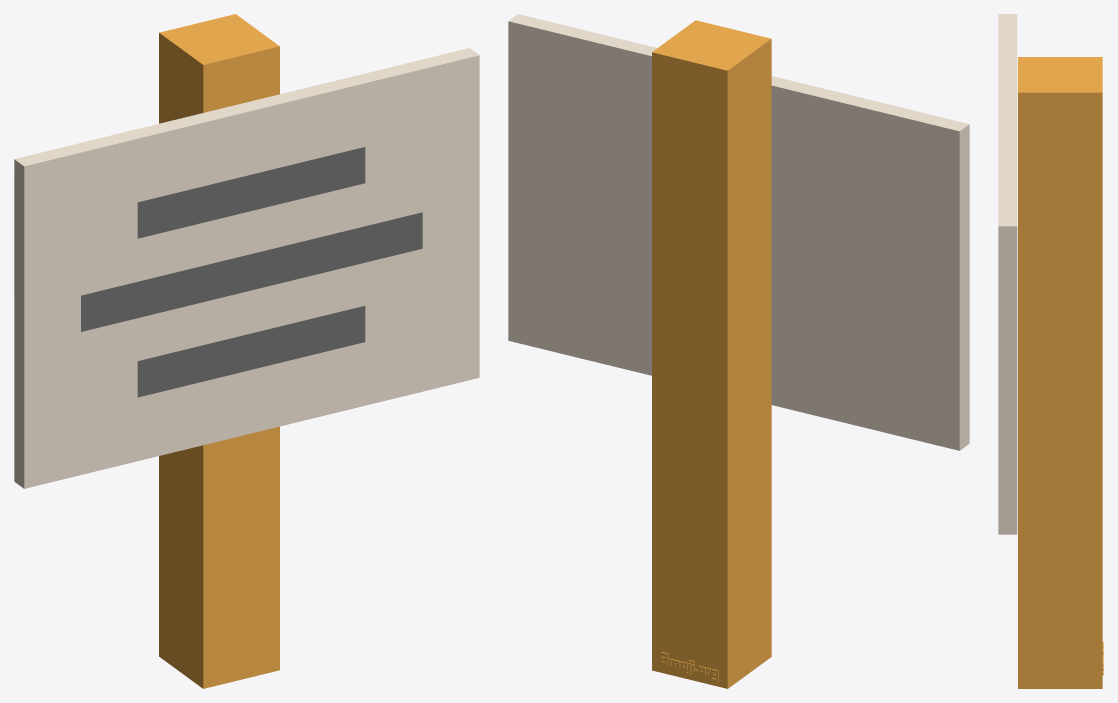
Rendered from placard.fbx.
3 views of the same model, side by side, from view 1: azimuth 30°, elevation 25°; view 2: azimuth 150°, elevation 25°; view 3: azimuth 270°, elevation 25° (orthographic). The views are drawn at different scales.
Parts seen in each view (by area): view 1: Cube.6288; view 2: Cube.6288; view 3: Cube.6288.
Part boxes in pixels (<box>): Cube.6288: <box>14,14,479,688</box>; Cube.6288: <box>508,14,969,688</box>; Cube.6288: <box>998,14,1103,688</box>.
Size of the model in its own units: 167 by 219 by 35.1.
Materials: 1 (1 with a texture image).
